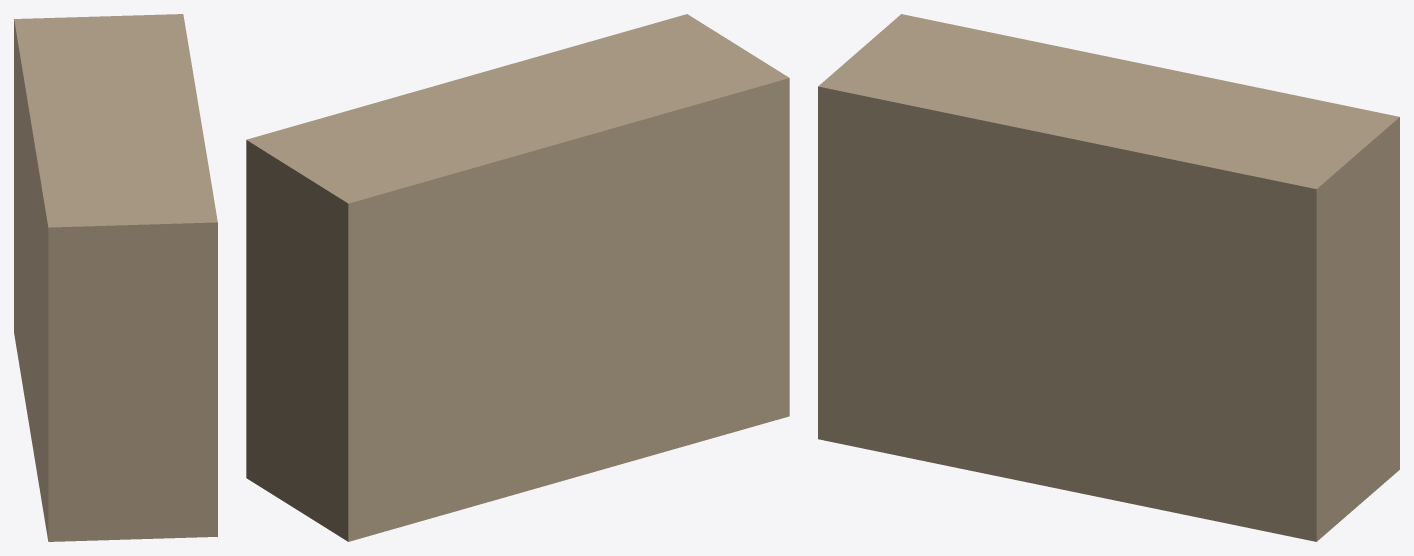
File: bld_99519968.dae
3 views of the same model, side by side, from view 1: azimuth 30°, elevation 25°; view 2: azimuth 150°, elevation 25°; view 3: azimuth 270°, elevation 25° (orthographic). The views are drawn at different scales.
Parts seen in each view (by area): view 1: bld_99519968; view 2: bld_99519968; view 3: bld_99519968.
Part boxes in pixels (left/top/right/bottom): bld_99519968: left=14, top=14, right=217, bottom=541; bld_99519968: left=246, top=14, right=789, bottom=541; bld_99519968: left=818, top=14, right=1399, bottom=541.
Size of the model in its own units: 8.52 by 11.96 by 8.
